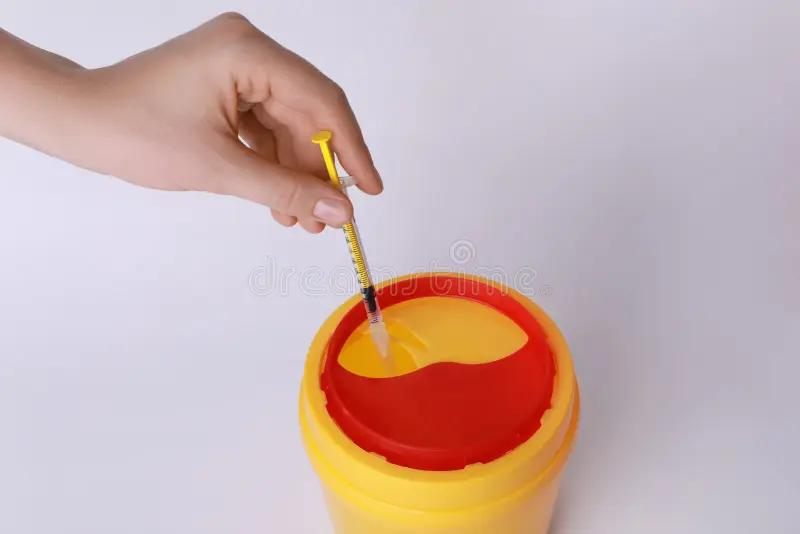Syringe: (343, 219, 391, 367)
